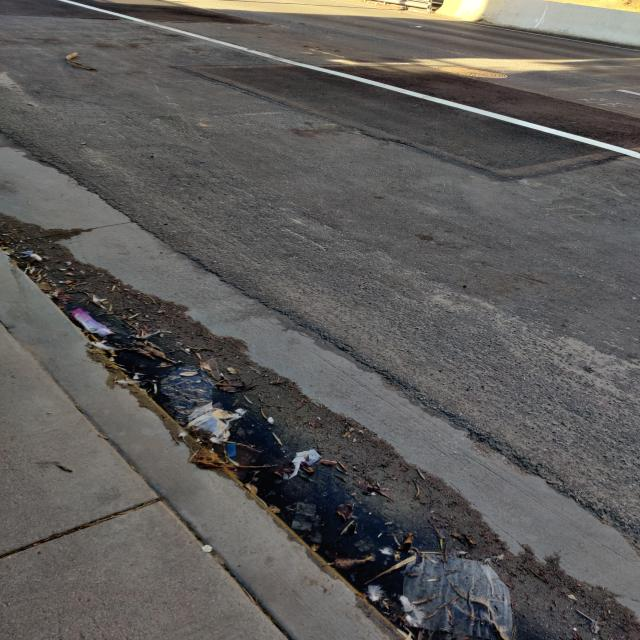litter: (403, 552, 513, 640), (186, 403, 242, 437), (282, 449, 322, 480), (71, 308, 113, 336), (65, 52, 98, 72), (20, 250, 42, 261), (227, 443, 237, 457)
